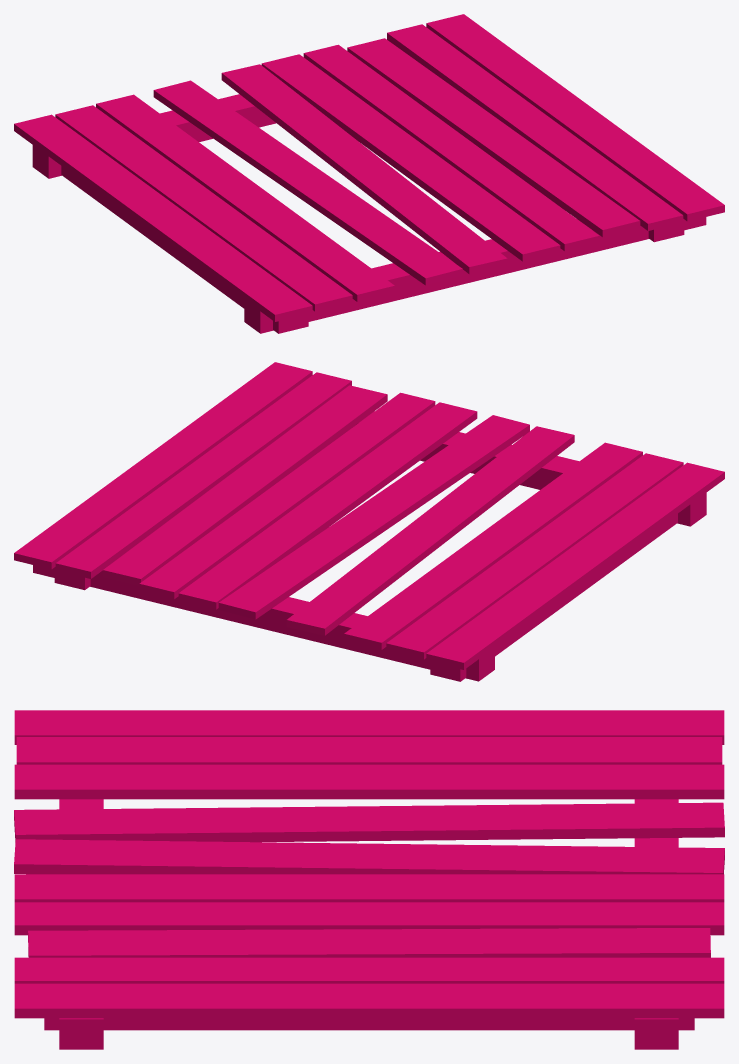
The model's file is Bastion_Floor_02_Lod0.fbx.
3 renders of one model, top to bottom at view 1: azimuth 30°, elevation 25°; view 2: azimuth 150°, elevation 25°; view 3: azimuth 270°, elevation 25°, orthographic. The views are drawn at different scales.
Visible parts, largest first — view 1: Bastion_Floor_02_Lod0; view 2: Bastion_Floor_02_Lod0; view 3: Bastion_Floor_02_Lod0.
Boxes of the visible parts, x1,y1,x2,y2 form: Bastion_Floor_02_Lod0: (14, 14, 724, 333); Bastion_Floor_02_Lod0: (14, 362, 724, 681); Bastion_Floor_02_Lod0: (14, 710, 724, 1049).
Bounding box in the file's own units: 298 × 19.85 × 300.
